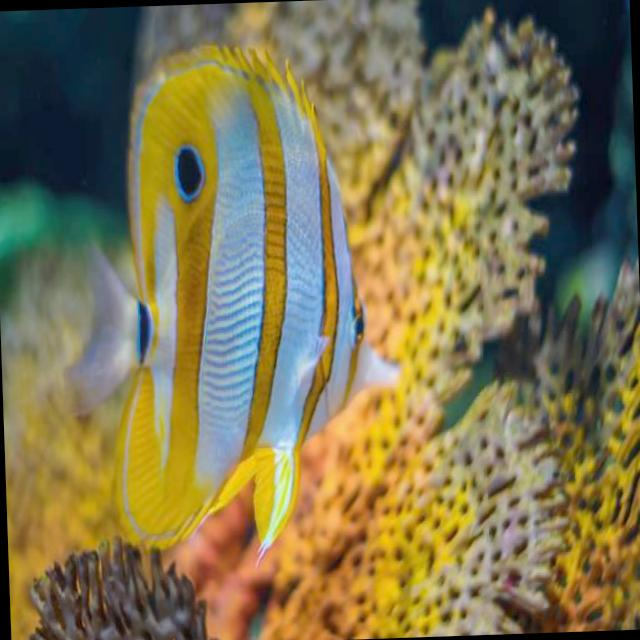ButterflyFish: (60, 46, 400, 584)
